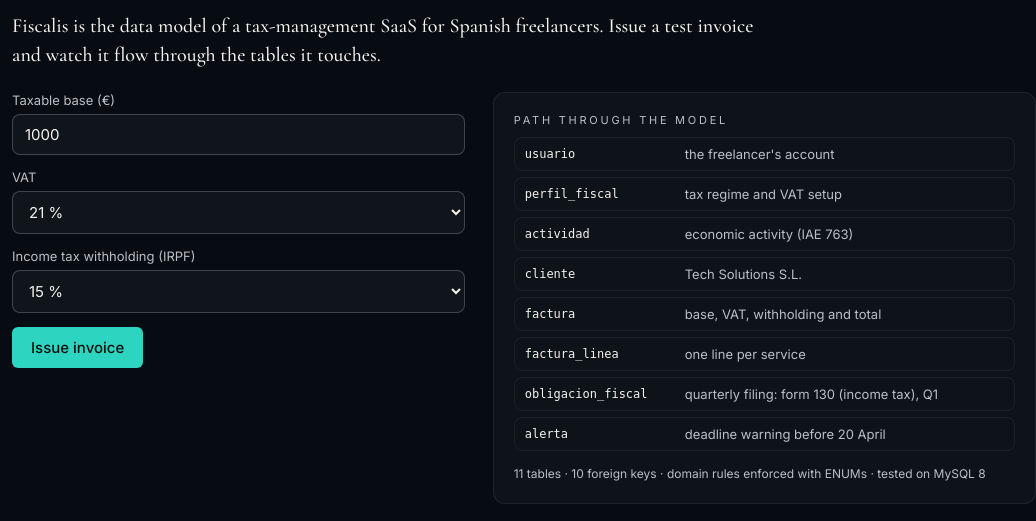
Test: parada Fiscalis › una base inválida muestra un error en el formulario
Replace the text in the field labelled "Taxable base (€)" with "-20" at coordinates (238, 134), box top-left (12, 114), bottom-right (465, 155)
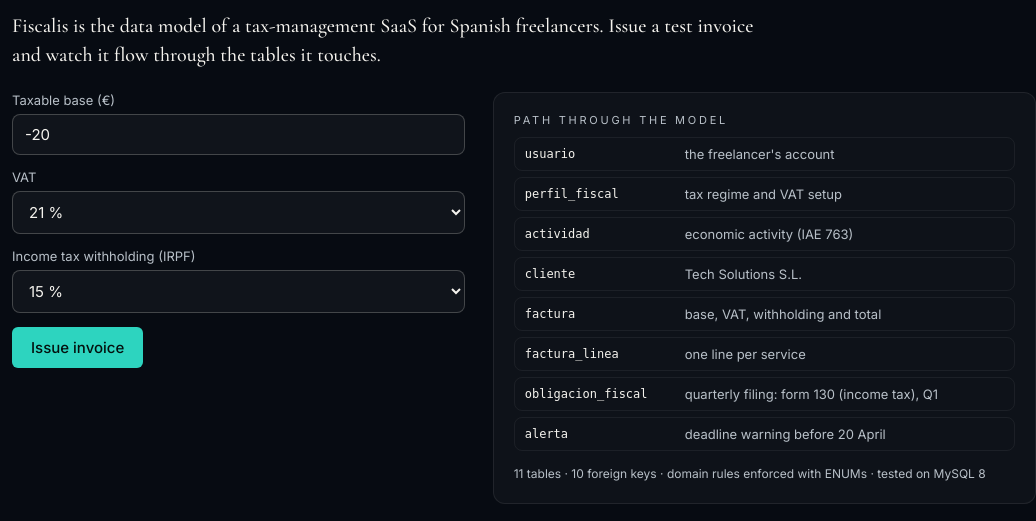
Click the button "Issue invoice" at coordinates (78, 348), box top-left (12, 327), bottom-right (143, 368)
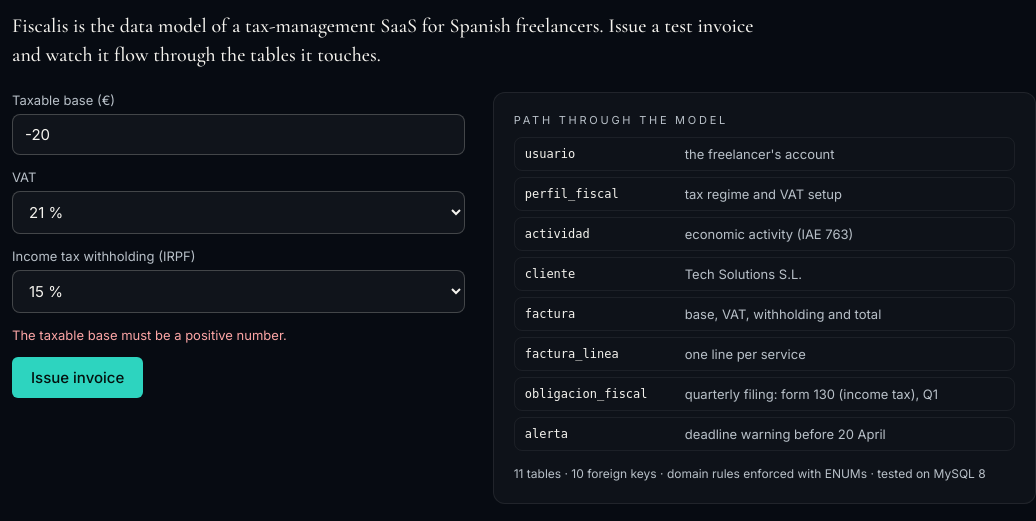
Check: the message "The taxable base must be a positive number." is shown, box top-left (12, 327), bottom-right (287, 343)
